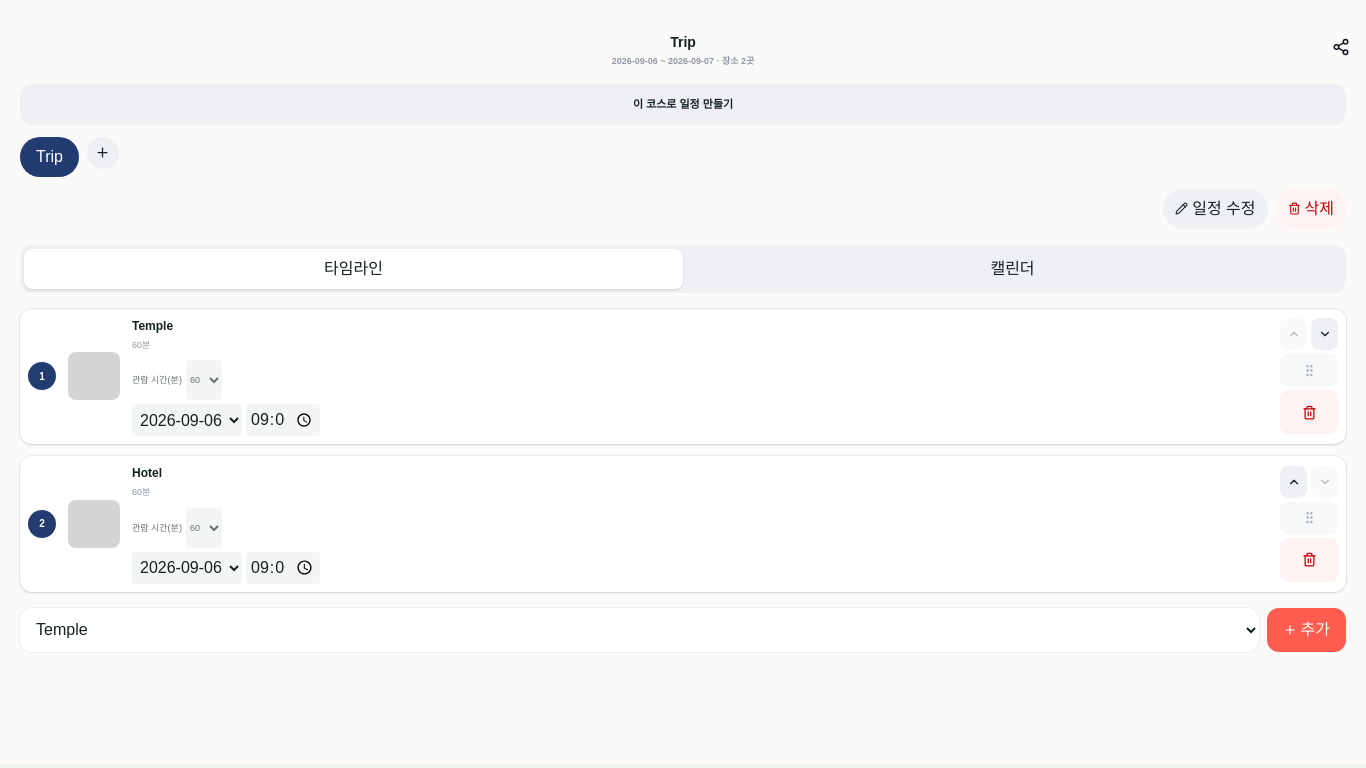
Scenario: course, itinerary and cart user flows › removes one itinerary place while preserving valid times on remaining visits
Click the button named "Temple 일정에서 삭제" at (1309, 412), box top-left (1280, 390), bottom-right (1338, 434)
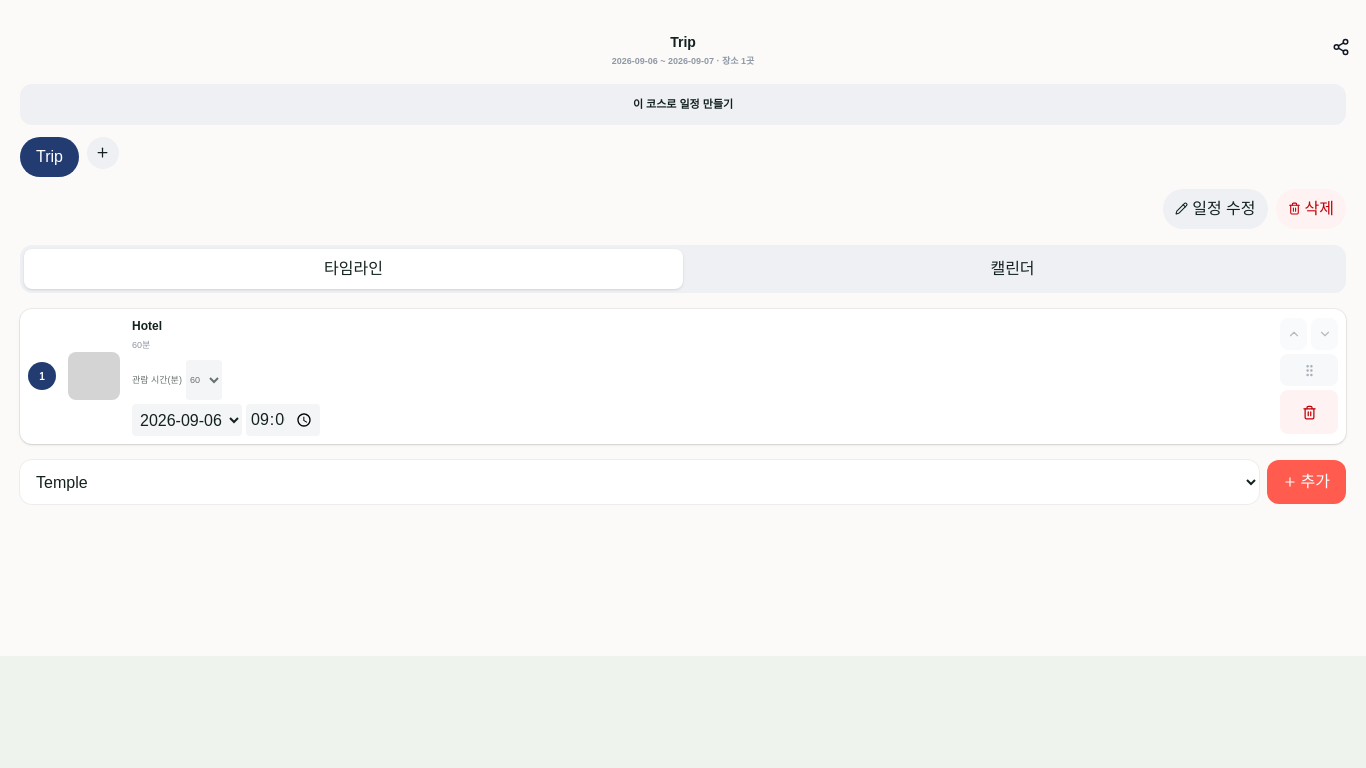
Click the button "캘린더" at (1012, 268), box top-left (683, 248), bottom-right (1342, 288)
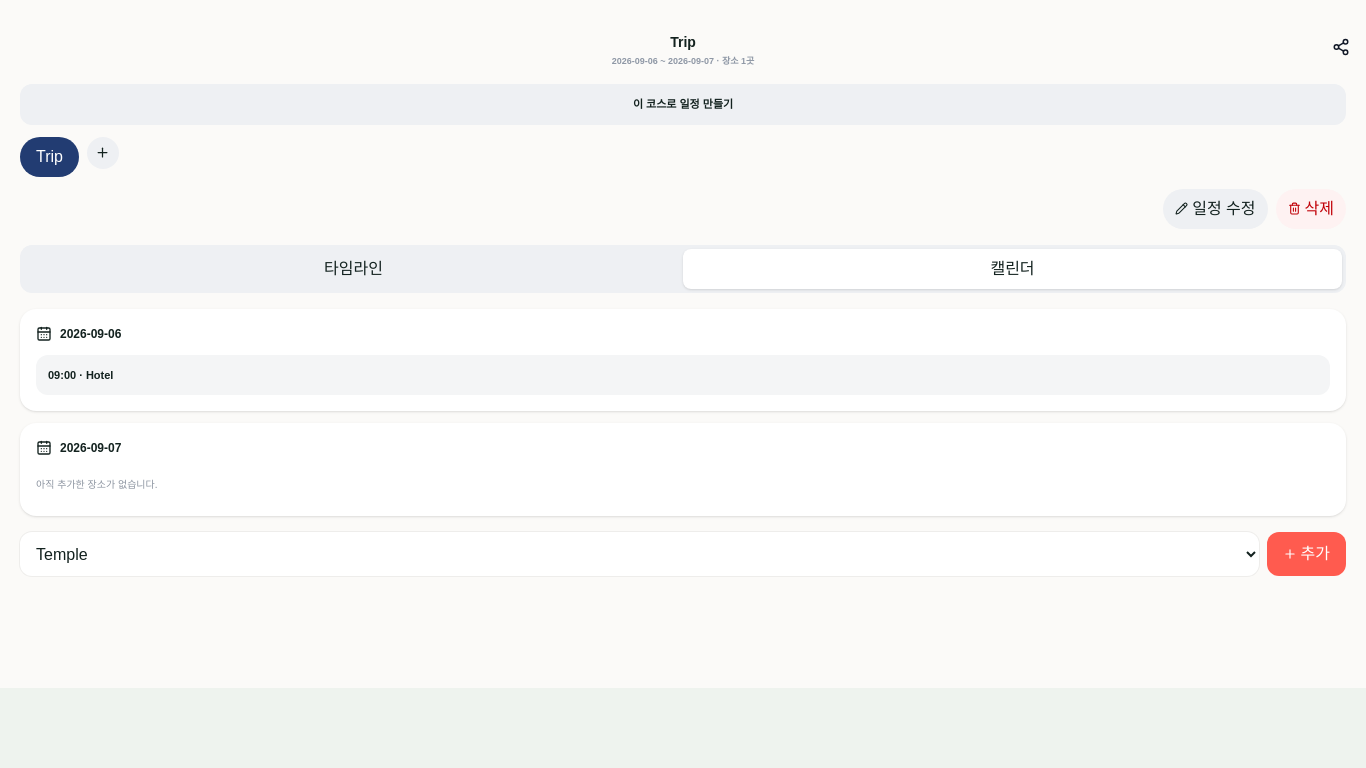
Expected: the text "2026-09-07" is shown, top-left (36, 440), bottom-right (121, 456)
